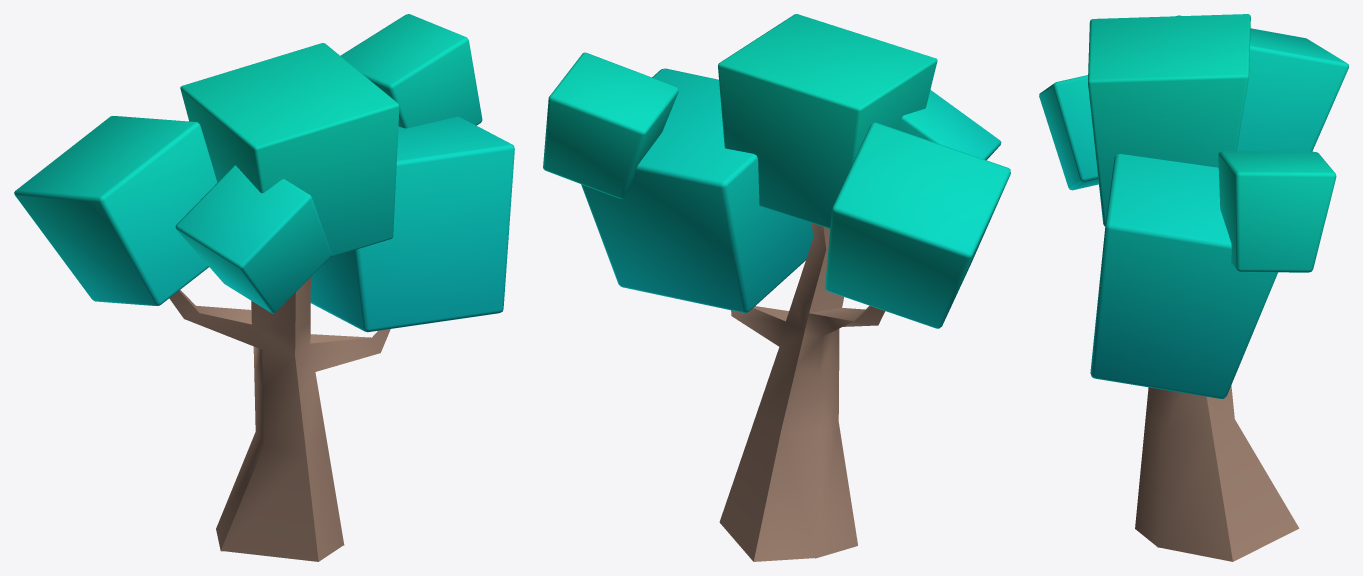
Rendered from Three1.fbx.
3 views of the same model, side by side, from view 1: azimuth 30°, elevation 25°; view 2: azimuth 150°, elevation 25°; view 3: azimuth 270°, elevation 25° (orthographic). The views are drawn at different scales.
Parts seen in each view (by area): view 1: Three1; view 2: Three1; view 3: Three1.
Boxes of the visible parts, left/top/right/bottom form: Three1: left=14, top=14, right=514, bottom=561; Three1: left=543, top=14, right=1010, bottom=561; Three1: left=1039, top=14, right=1348, bottom=561.
Size of the model in its own units: 1.76 by 1.8 by 1.04.
